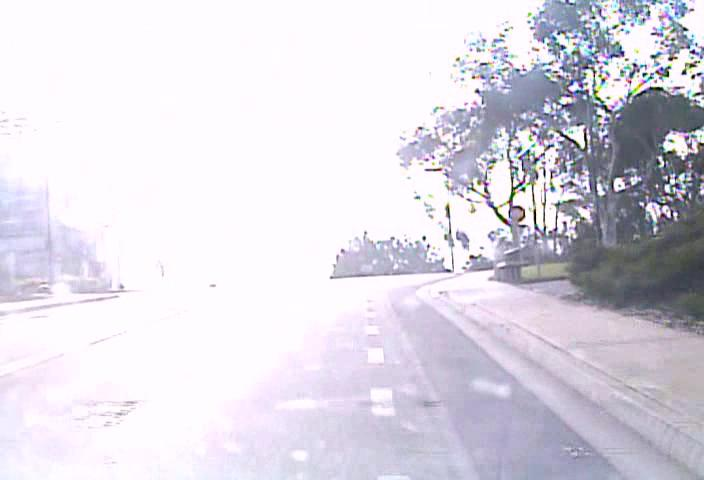stop: (508, 204, 526, 223)
